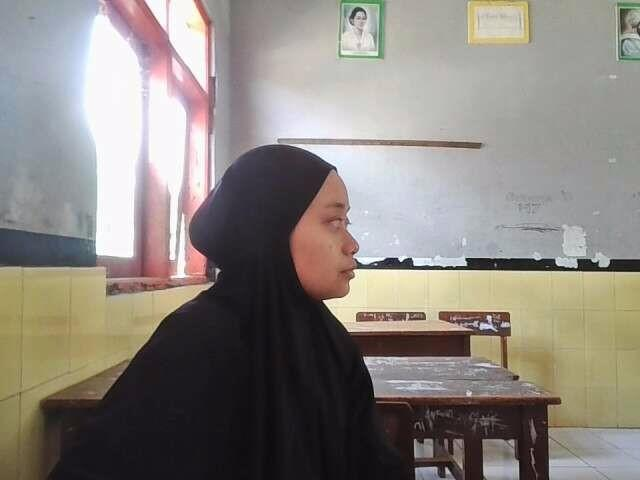cheating: (39, 140, 394, 478)
